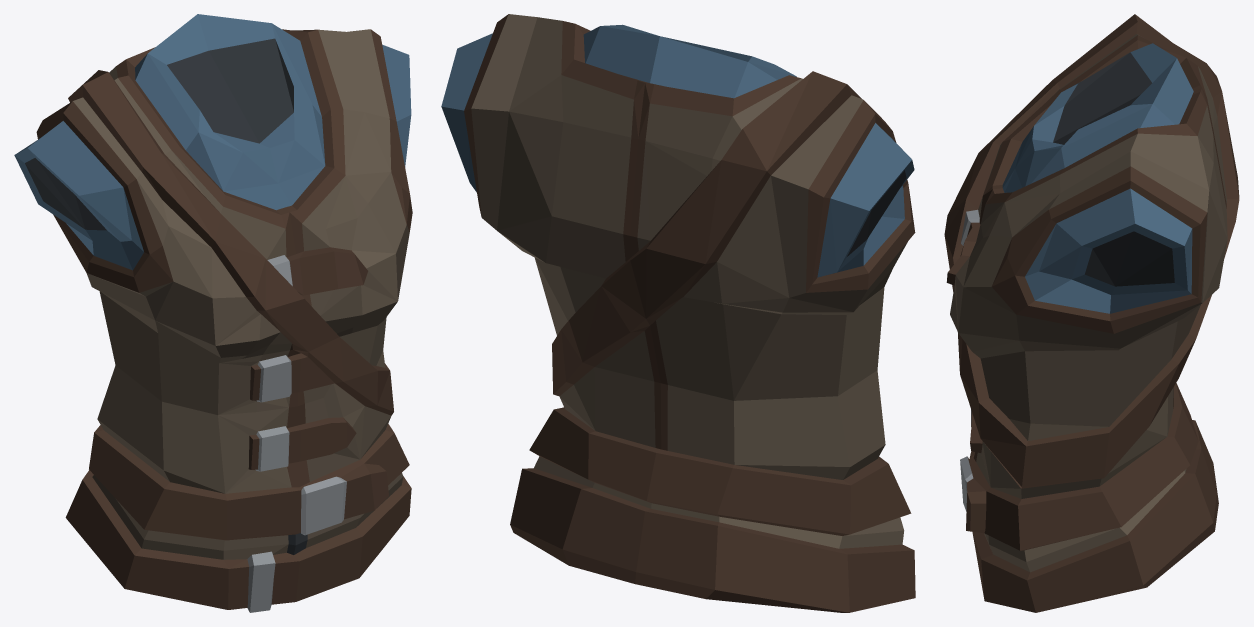
File: Chr_Torso_Female_14_Static.fbx
3 views of the same model, side by side, from view 1: azimuth 30°, elevation 25°; view 2: azimuth 150°, elevation 25°; view 3: azimuth 270°, elevation 25° (orthographic). The views are drawn at different scales.
Parts seen in each view (by area): view 1: Chr_Torso_Female_14_Static; view 2: Chr_Torso_Female_14_Static; view 3: Chr_Torso_Female_14_Static.
Boxes of the visible parts, left/top/right/bottom form: Chr_Torso_Female_14_Static: left=14, top=14, right=412, bottom=612; Chr_Torso_Female_14_Static: left=441, top=14, right=915, bottom=612; Chr_Torso_Female_14_Static: left=944, top=14, right=1239, bottom=612.
Size of the model in its own units: 0.5172 by 0.6714 by 0.3454.
